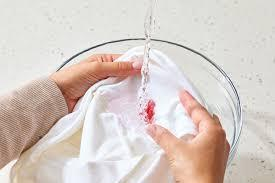blood: (139, 100, 156, 122)
